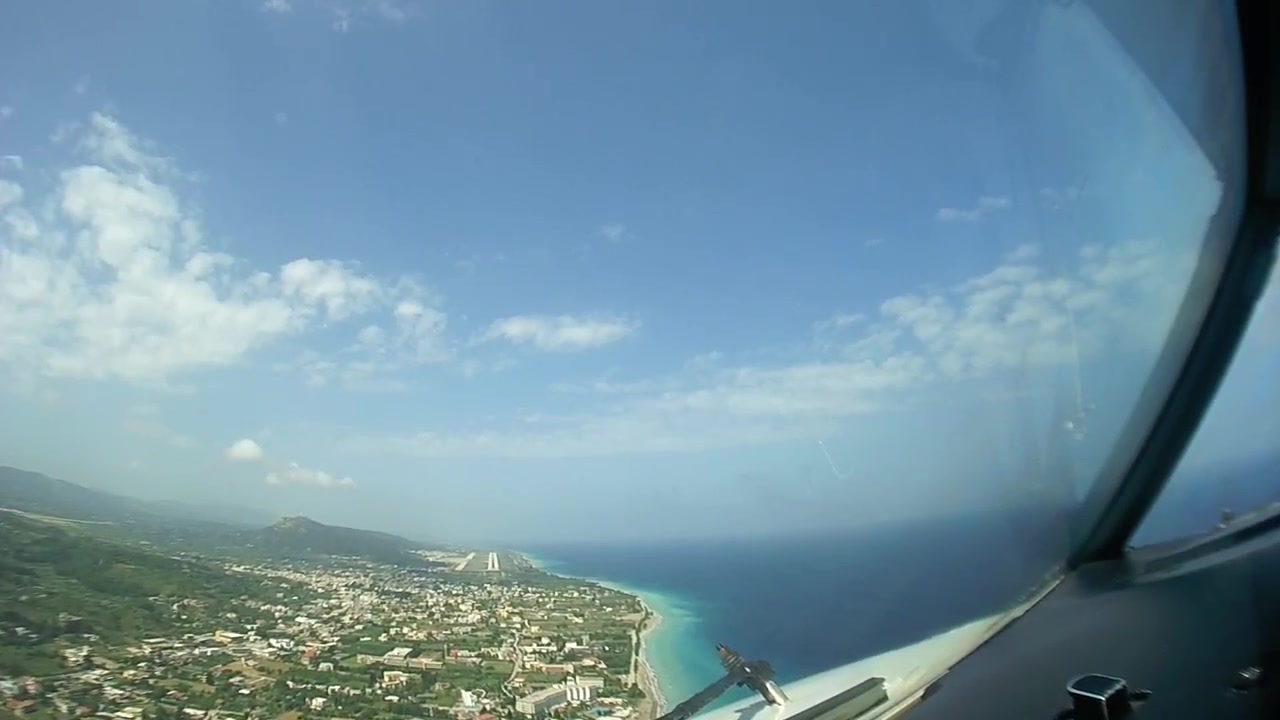runway: (485, 551, 500, 572)
